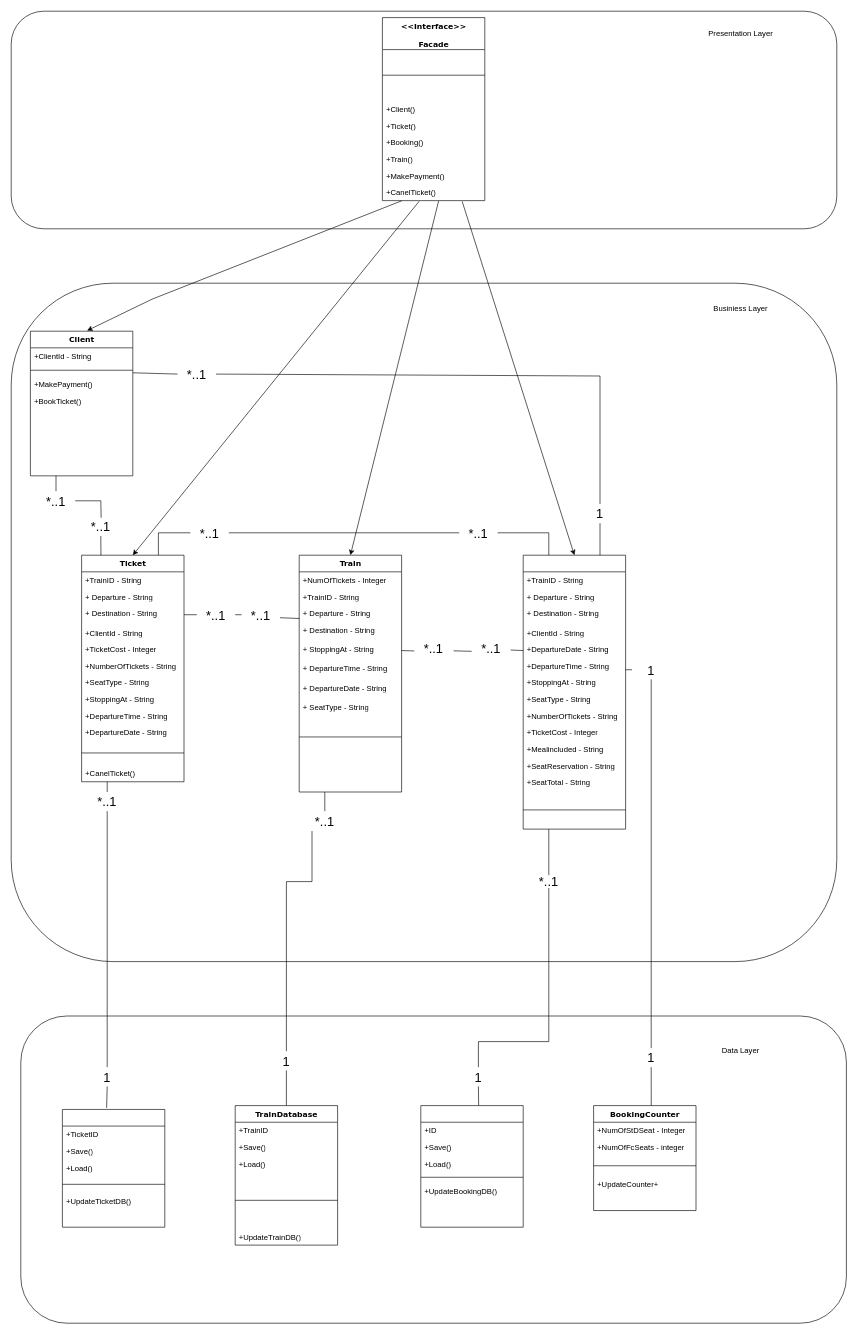
Some shapes in this 858 by 1334 pixel diagram are drawn without their labels. The box of each missing label's shape, as (x1, y1, x2, y2) in pixels:
Booking: (523, 555, 626, 829)
BookingDatabase: (420, 1105, 523, 1227)
TicketDataBase: (62, 1109, 165, 1227)
